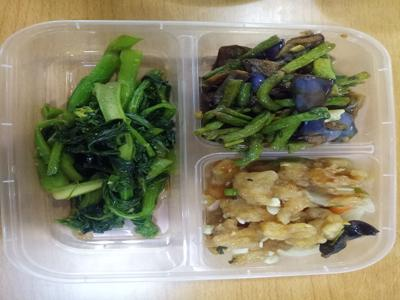gbr: (199, 153, 380, 266)
ymc: (34, 49, 173, 246)
